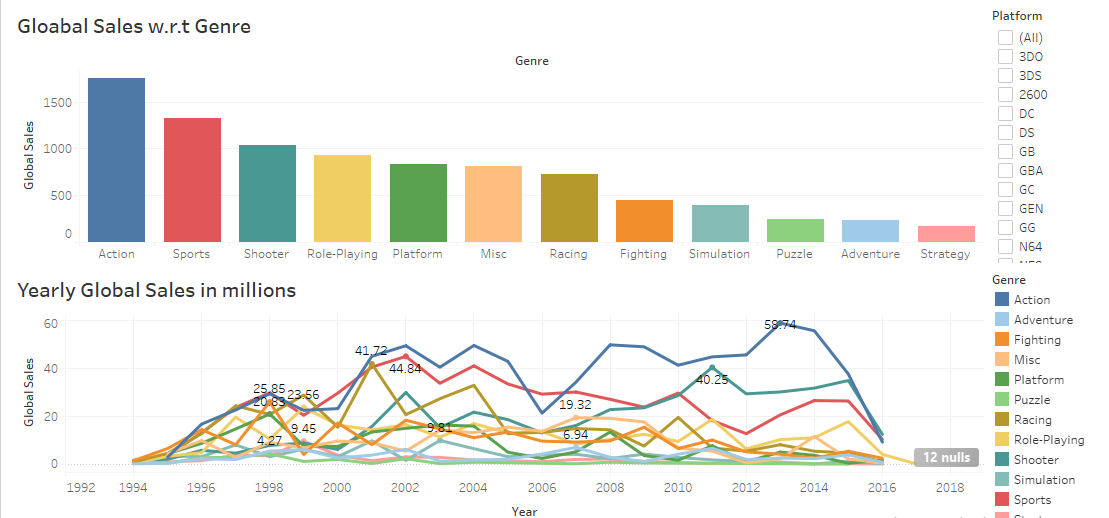

This screenshot's page, from the dashboard's own definition file:
{"tool":"tableau","page":{"name":"Dashboard 1","canvas":[1000,1000],"units":"permille","ordinal":0},"visuals":[{"type":"worksheet","title":"Sheet 2","mark":"Automatic","rows":["Global_Sales"],"cols":["Genre"],"box":[6.9,14.7,847.6,485.3]},{"type":"filter","title":"Sheet 1","param":"[federated.0g3joyl1phn7ho1283rb00ivjhhq].[none:Platform:nk]","box":[854.5,14.7,138.5,485.3]},{"type":"worksheet","title":"Sheet 1","mark":"Automatic","rows":["Global_Sales"],"cols":["Year"],"box":[6.9,500,847.6,485.3]},{"type":"legend","title":"Sheet 1","param":"[federated.0g3joyl1phn7ho1283rb00ivjhhq].[none:Genre:nk]","box":[854.5,500,138.5,485.3]}]}

Visuals, with their boxes on the dashboard's canvas, which has no fixed pixel size, in thousandths of its width and height (x1, y1, x2, y2). These are canvas units, not pixel positions in the 1109x518 screenshot, which may show the page scaled, cropped or inside an application window:
"Sheet 2" worksheet: 7, 15, 854, 500
"Sheet 1" filter: 854, 15, 993, 500
"Sheet 1" worksheet: 7, 500, 854, 985
"Sheet 1" legend: 854, 500, 993, 985
